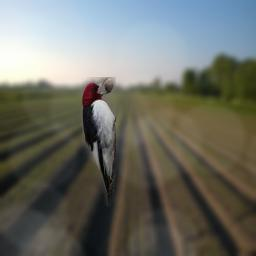Woodpecker: (82, 77, 116, 207)
